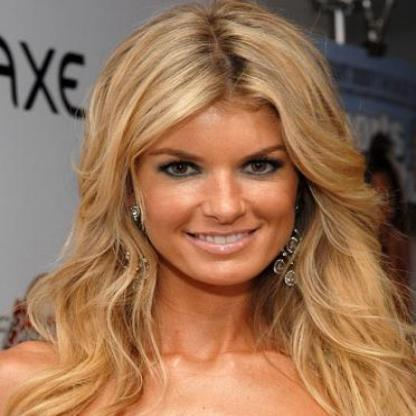long-hair: (20, 291, 412, 372)
